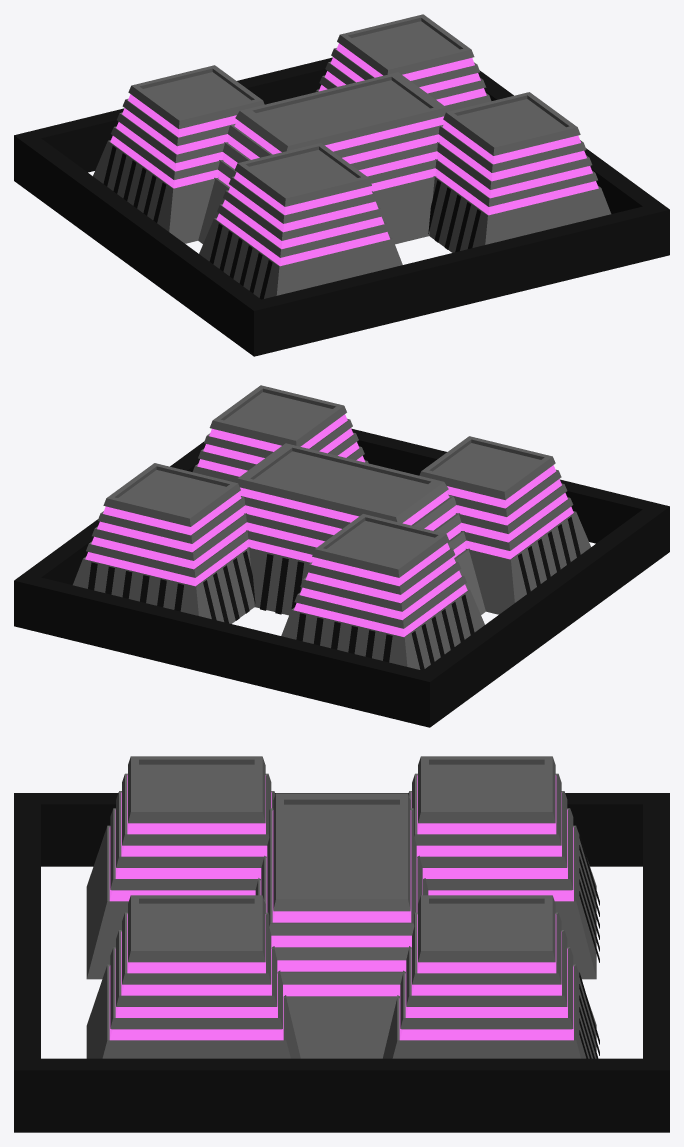
3 views of the same model, one above another, from view 1: azimuth 30°, elevation 25°; view 2: azimuth 150°, elevation 25°; view 3: azimuth 270°, elevation 25° (orthographic). The views are drawn at different scales.
Visible parts, largest first — view 1: Plane, Cube.008, Cube.007, Cube.009, Cube.005, Cube.006, Plane.026, Plane.021, Plane.029; view 2: Plane, Cube.005, Cube.006, Cube.009, Cube.008, Cube.007, Plane.024, Plane.021, Plane.029, Plane.025, Plane.023, Plane.028; view 3: Plane, Cube.009, Cube.007, Cube.006, Cube.008, Cube.005, Plane.023, Plane.025.
Boxes of the visible parts, x1,y1,x2,y2 form: Plane: (14,57,669,356); Cube.008: (199,143,402,298); Cube.007: (429,92,611,252); Cube.009: (198,72,448,244); Cube.005: (93,65,264,243); Cube.006: (315,14,491,111); Plane.026: (428,180,480,252); Plane.021: (103,146,166,222); Plane.029: (209,223,272,299); Plane: (14,428,669,727); Cube.005: (281,514,484,669); Cube.006: (73,463,254,623); Cube.009: (235,443,485,615); Cube.008: (419,436,590,614); Cube.007: (192,385,368,482); Plane.024: (203,551,255,623); Plane.021: (411,594,474,670); Plane.029: (518,516,580,593); Plane.025: (88,562,183,611); Plane.023: (296,613,392,662); Plane.028: (260,554,303,614); Plane: (14,793,669,1132); Cube.009: (255,793,428,1058); Cube.007: (86,895,300,1058); Cube.006: (383,895,596,1058); Cube.008: (86,756,275,979); Cube.005: (408,756,596,979); Plane.023: (579,833,599,962); Plane.025: (579,972,599,1058).
Size of the model in its own units: 1.9 by 0.4748 by 1.9.
